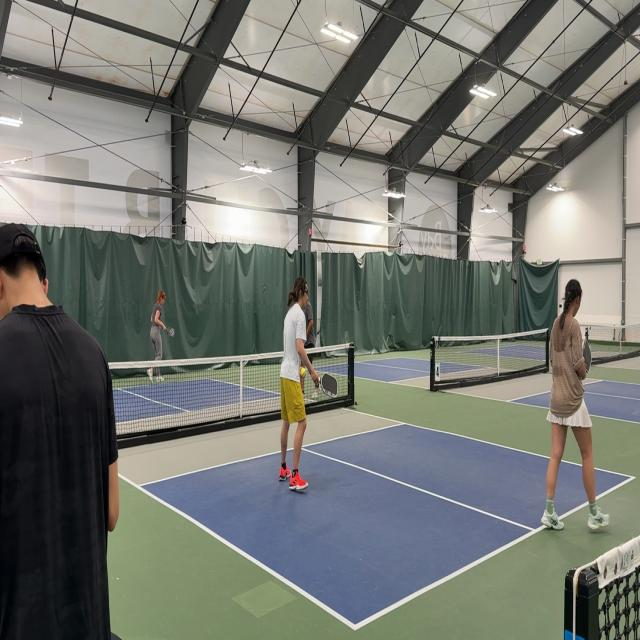ball: (300, 366, 306, 379)
